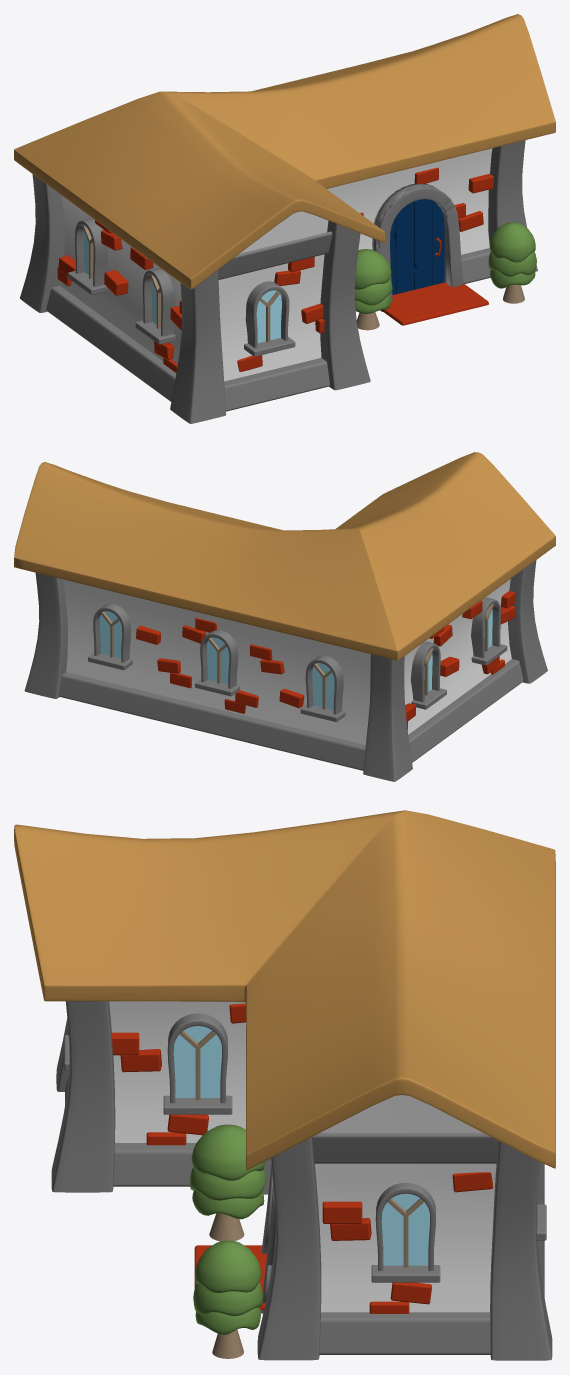
Rendered from StylizeHouse_Korean.glb.
3 views of the same model, one above another, from view 1: azimuth 30°, elevation 25°; view 2: azimuth 150°, elevation 25°; view 3: azimuth 270°, elevation 25° (orthographic). The views are drawn at different scales.
Visible parts, largest first — view 1: pCube22_lambert7_0, pCube1_lambert3_0, polySurface2_lambert4_0, pCube3_lambert4_0, pCube2_lambert4_0, pCube21_lambert5_0, pCube6_lambert4_0, pCylinder2_lambert4_0, pCube4_lambert4_0, pCube41_lambert8_0, pSphere5_lambert9_0, pSphere4_lambert9_0 (+5 smaller); view 2: pCube22_lambert7_0, pCube1_lambert3_0, polySurface2_lambert4_0, pCube6_lambert4_0, pCube5_lambert4_0, pCube3_lambert4_0, pCube35_lambert4_0, pCube34_lambert4_0, pCube40_lambert4_0, pCube39_lambert4_0, pCube38_lambert4_0, pCube39_lambert6_0 (+2 smaller); view 3: pCube22_lambert7_0, pCube1_lambert3_0, polySurface2_lambert4_0, pCube4_lambert4_0, pCube5_lambert4_0, pCube2_lambert4_0, polySurface1_lambert4_0, pSphere4_lambert9_0, pSphere5_lambert9_0, pCube36_lambert4_0, pCube37_lambert6_0, pCube36_lambert6_0 (+11 smaller).
Boxes of the visible parts, box(x1,y1,x2,y2) form: pCube22_lambert7_0: box(14, 14, 555, 289); pCube1_lambert3_0: box(60, 148, 492, 381); polySurface2_lambert4_0: box(46, 231, 332, 411); pCube3_lambert4_0: box(170, 270, 226, 423); pCube2_lambert4_0: box(320, 220, 370, 390); pCube21_lambert5_0: box(390, 199, 444, 294); pCube6_lambert4_0: box(20, 174, 65, 312); pCylinder2_lambert4_0: box(372, 183, 462, 311); pCube4_lambert4_0: box(488, 140, 537, 271); pCube41_lambert8_0: box(381, 282, 488, 325); pSphere5_lambert9_0: box(488, 222, 536, 288); pSphere4_lambert9_0: box(355, 249, 392, 313); pCube22_lambert7_0: box(14, 452, 555, 660); pCube1_lambert3_0: box(63, 579, 511, 744); polySurface2_lambert4_0: box(59, 659, 523, 770); pCube6_lambert4_0: box(363, 654, 412, 781); pCube5_lambert4_0: box(24, 573, 67, 698); pCube3_lambert4_0: box(508, 560, 547, 683); pCube35_lambert4_0: box(410, 641, 446, 709); pCube34_lambert4_0: box(471, 597, 507, 665); pCube40_lambert4_0: box(300, 655, 345, 722); pCube39_lambert4_0: box(195, 629, 239, 696); pCube38_lambert4_0: box(88, 603, 132, 670); pCube39_lambert6_0: box(207, 637, 229, 684); pCube22_lambert7_0: box(14, 810, 555, 1170); pCube1_lambert3_0: box(109, 1001, 496, 1312); polySurface2_lambert4_0: box(65, 1076, 544, 1354); pCube4_lambert4_0: box(257, 1137, 321, 1360); pCube5_lambert4_0: box(490, 1141, 552, 1360); pCube2_lambert4_0: box(51, 1001, 115, 1192); polySurface1_lambert4_0: box(312, 1133, 498, 1163); pSphere4_lambert9_0: box(190, 1124, 266, 1219); pSphere5_lambert9_0: box(193, 1240, 263, 1334); pCube36_lambert4_0: box(163, 1013, 232, 1114); pCube37_lambert6_0: box(381, 1193, 429, 1265); pCube36_lambert6_0: box(173, 1026, 221, 1097).
Size of the model in its own units: 59.54 by 29.24 by 42.67.
